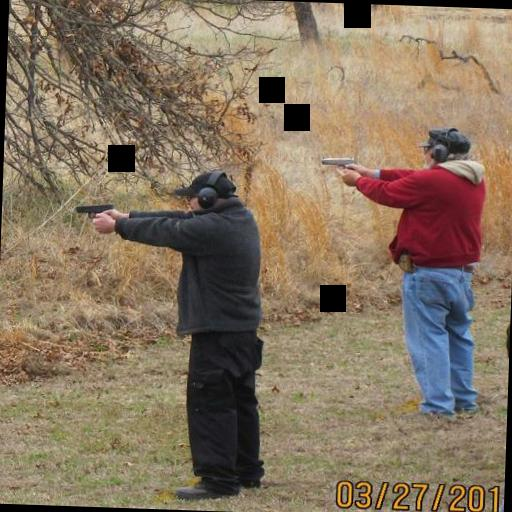Handgun: (315, 143, 360, 182), (67, 195, 116, 224)
